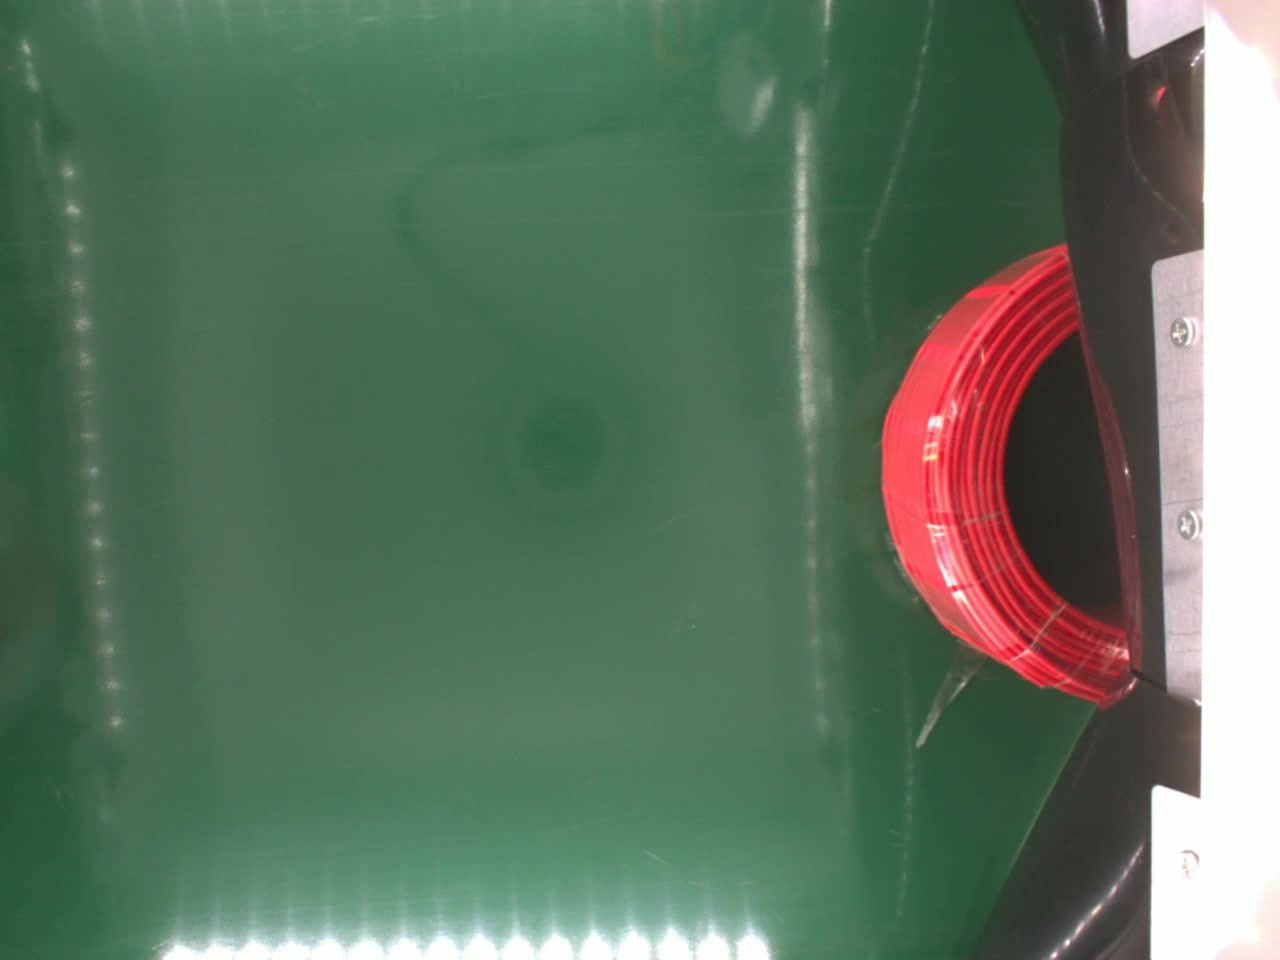red: (881, 237, 1134, 702)
